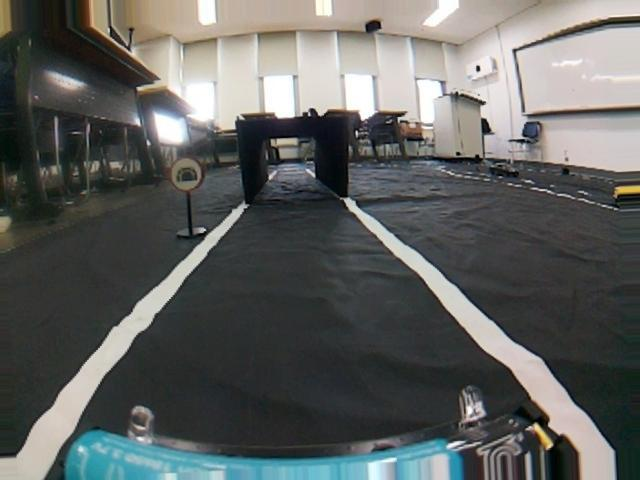sign_tunnel: (169, 154, 204, 192)
straight: (4, 207, 636, 474)
